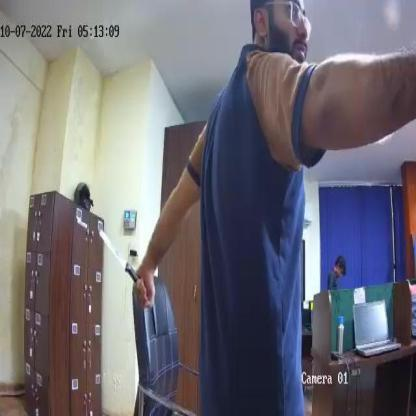Knife: (98, 228, 148, 295)
